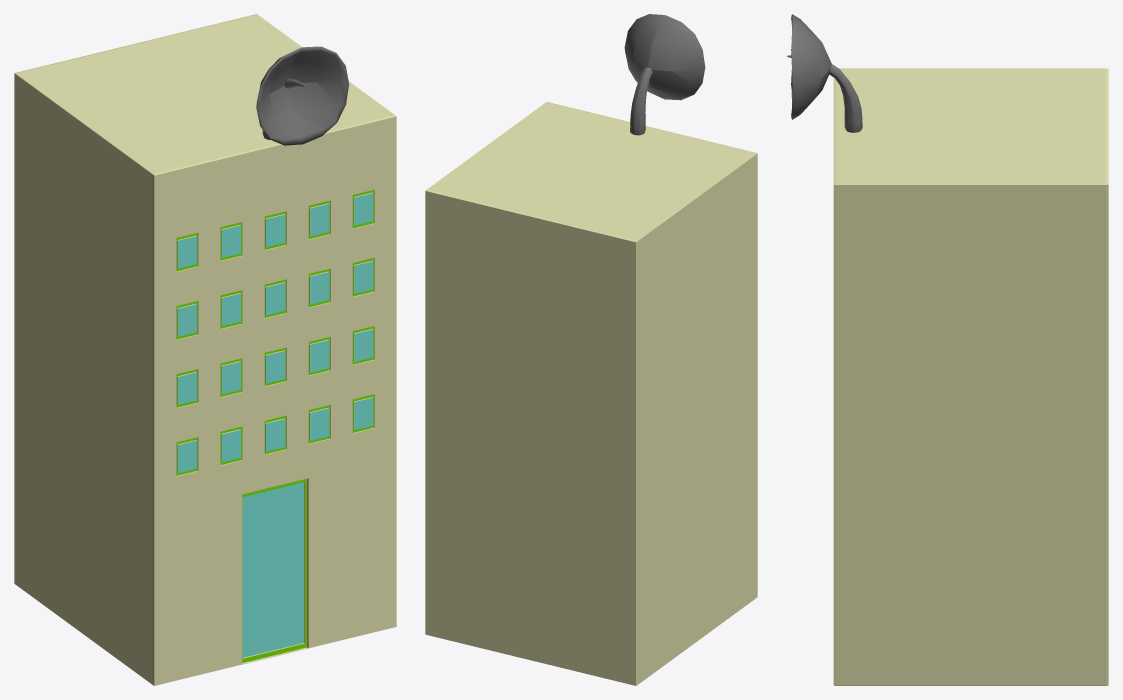
Rendered from House3.fbx.
3 views of the same model, side by side, from view 1: azimuth 30°, elevation 25°; view 2: azimuth 150°, elevation 25°; view 3: azimuth 270°, elevation 25° (orthographic). The views are drawn at different scales.
Parts seen in each view (by area): view 1: House2; view 2: House2; view 3: House2.
Boxes of the visible parts, x1=… form: House2: x1=14, y1=14, x2=396, y2=685; House2: x1=425, y1=14, x2=757, y2=685; House2: x1=787, y1=14, x2=1108, y2=685.
Size of the model in its own units: 309 by 759 by 362.
